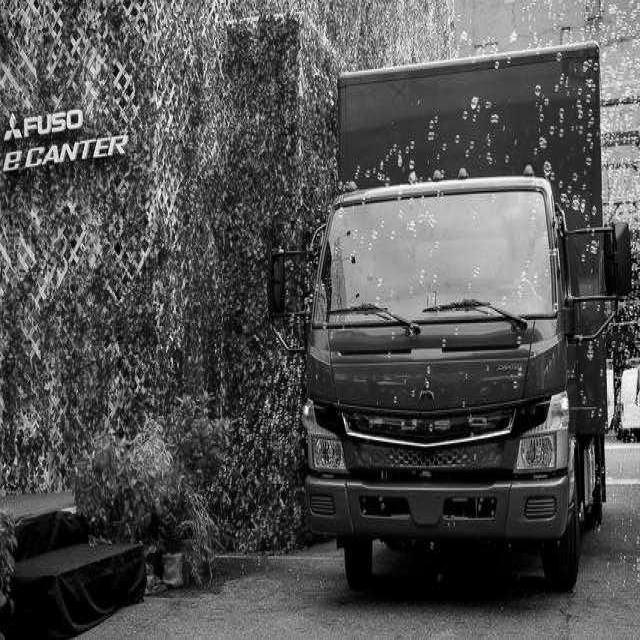Truck: (304, 43, 630, 591)
